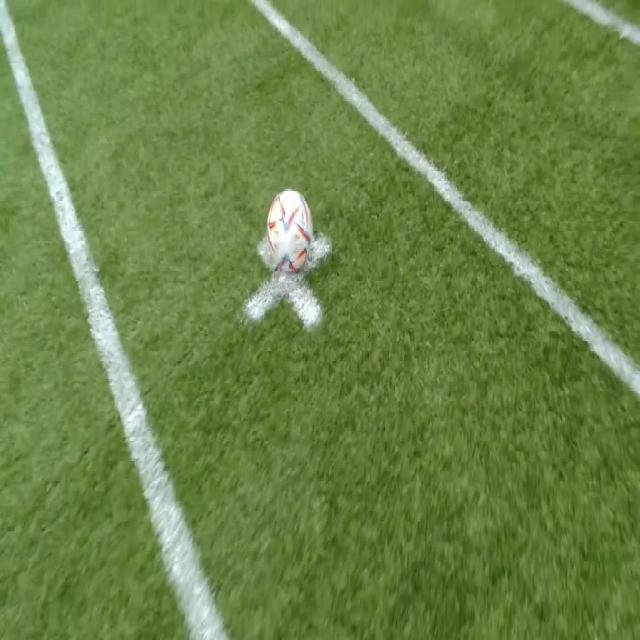ball: (267, 191, 312, 271)
